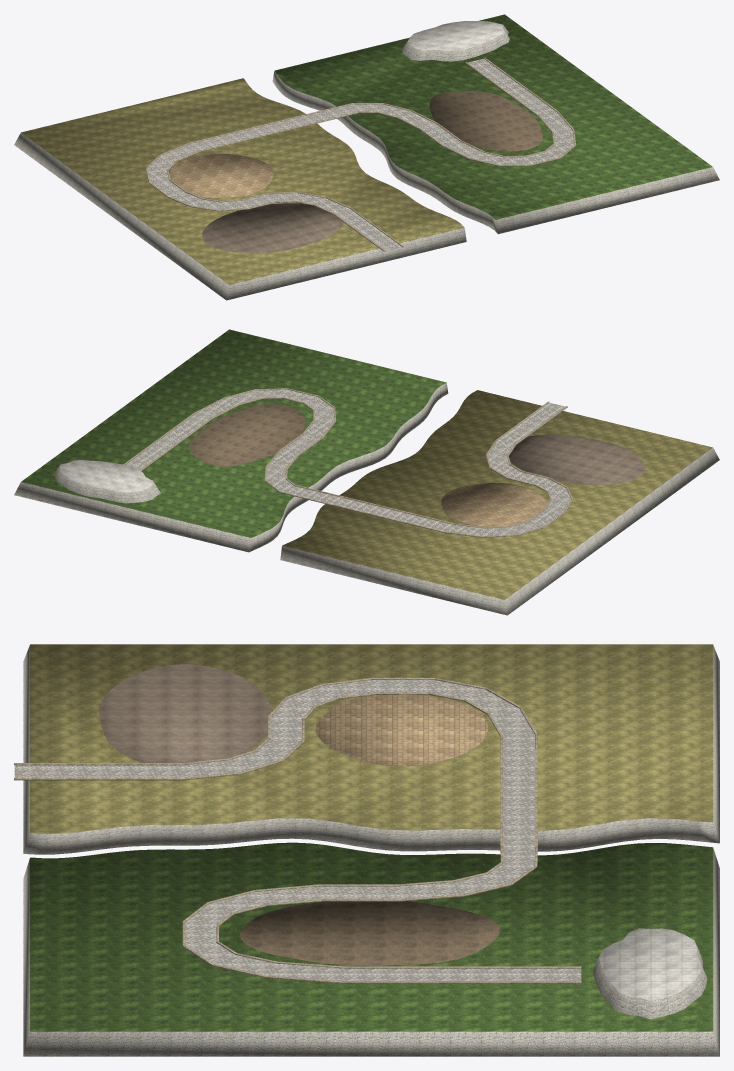
Rendered from 15_BramaLwow_teren.glb.
3 renders of one model, top to bottom at view 1: azimuth 30°, elevation 25°; view 2: azimuth 150°, elevation 25°; view 3: azimuth 270°, elevation 25°, orthographic. The views are drawn at different scales.
Parts seen in each view (by area): view 1: west, east, path_0, town_a, gym, agora, acropolis; view 2: west, east, path_0, town_a, gym, agora, acropolis; view 3: east, west, path_0, town_a, gym, agora, acropolis.
Boxes of the visible parts, box(x1,y1,x2,y2) form: west: box(14, 78, 466, 300); east: box(272, 14, 719, 234); path_0: box(147, 58, 574, 250); town_a: box(202, 203, 343, 253); gym: box(429, 90, 542, 151); agora: box(170, 154, 273, 197); acropolis: box(402, 21, 509, 61); west: box(280, 390, 719, 615); east: box(14, 329, 448, 552); path_0: box(125, 389, 571, 535); town_a: box(509, 434, 645, 485); gym: box(189, 404, 305, 466); agora: box(441, 482, 546, 526); acropolis: box(55, 459, 160, 503); east: box(23, 842, 719, 1056); west: box(23, 644, 719, 854); path_0: box(14, 680, 581, 980); town_a: box(99, 664, 271, 762); gym: box(239, 901, 499, 965); agora: box(315, 694, 488, 766); acropolis: box(593, 928, 707, 1019).
Size of what is drawn, in the model's own units: 241 by 10 by 182.
10 materials, 10 textured.
